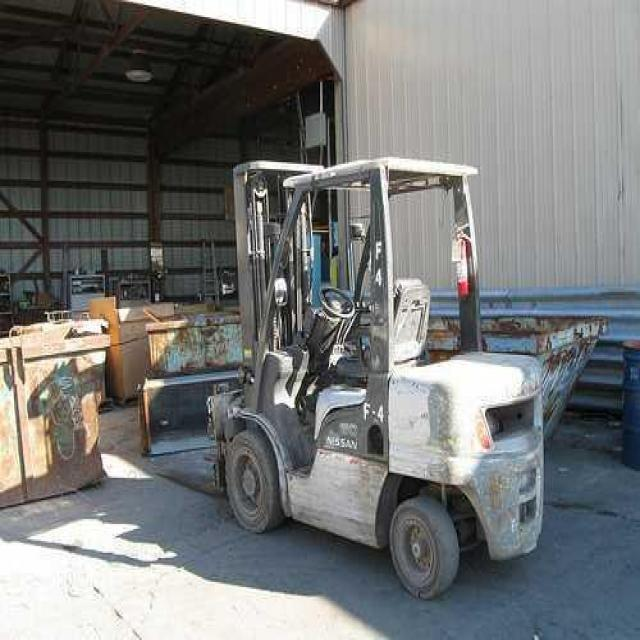Chariot elevateur: (154, 164, 545, 601)
